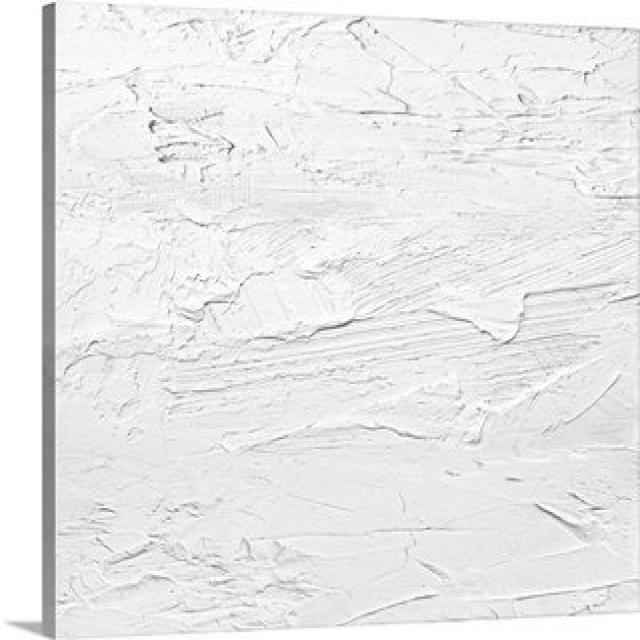trowels marks: (55, 4, 640, 621)
